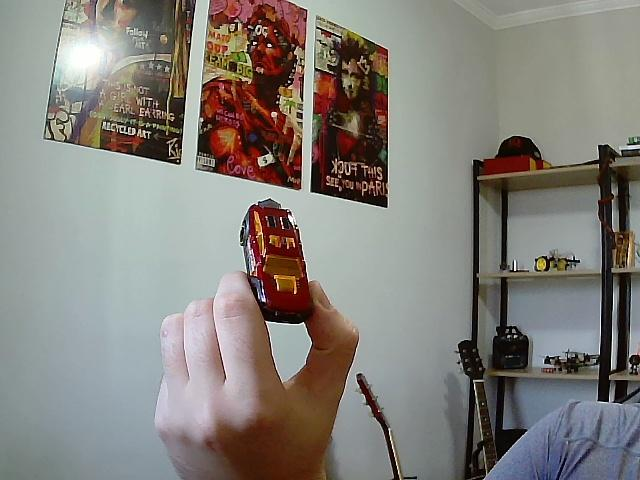Carro: (240, 200, 313, 325)
